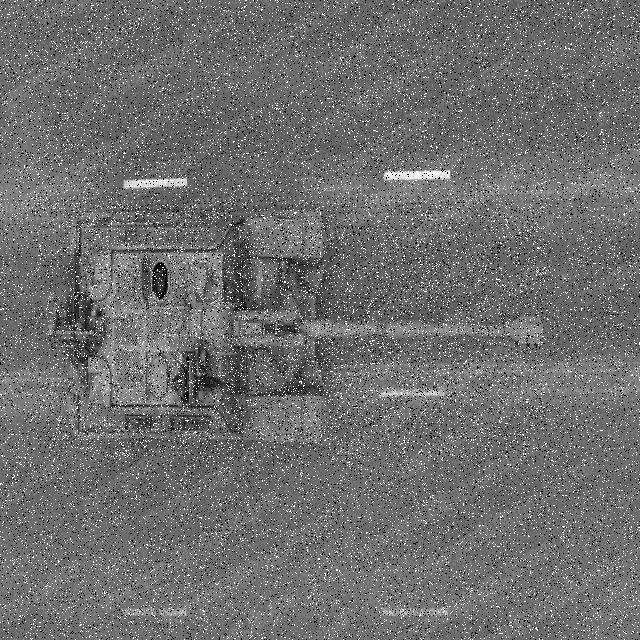MIL_MBT: (47, 203, 547, 459)
